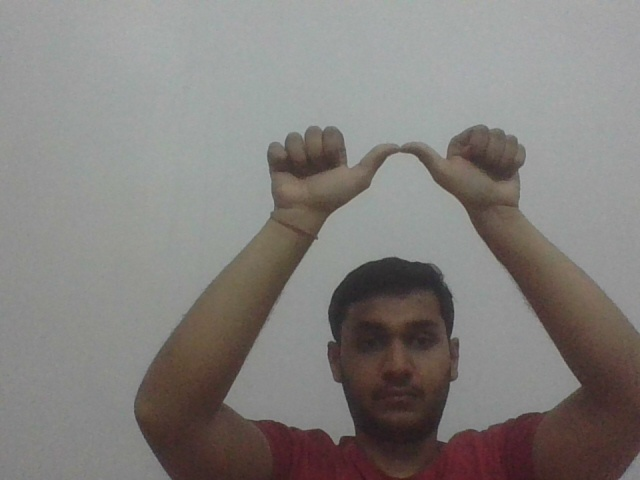A: (263, 123, 528, 212)
